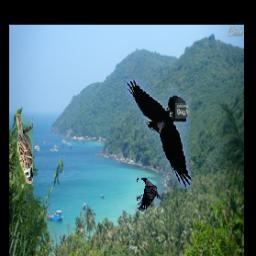Crow: (127, 80, 192, 190), (138, 178, 162, 213)
Sparrow: (17, 115, 34, 185)
